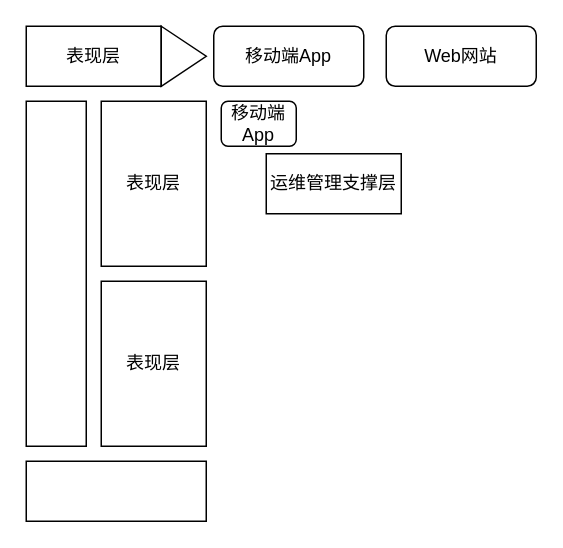
Image size: 563x548. Some labels were removed from this diagram. The shapes that lost their labels are listed below. From the top down, each one's centre as x and y in pixels, then its label:
At (55,273): "应用层".
At (115,490): "数据存储层".
